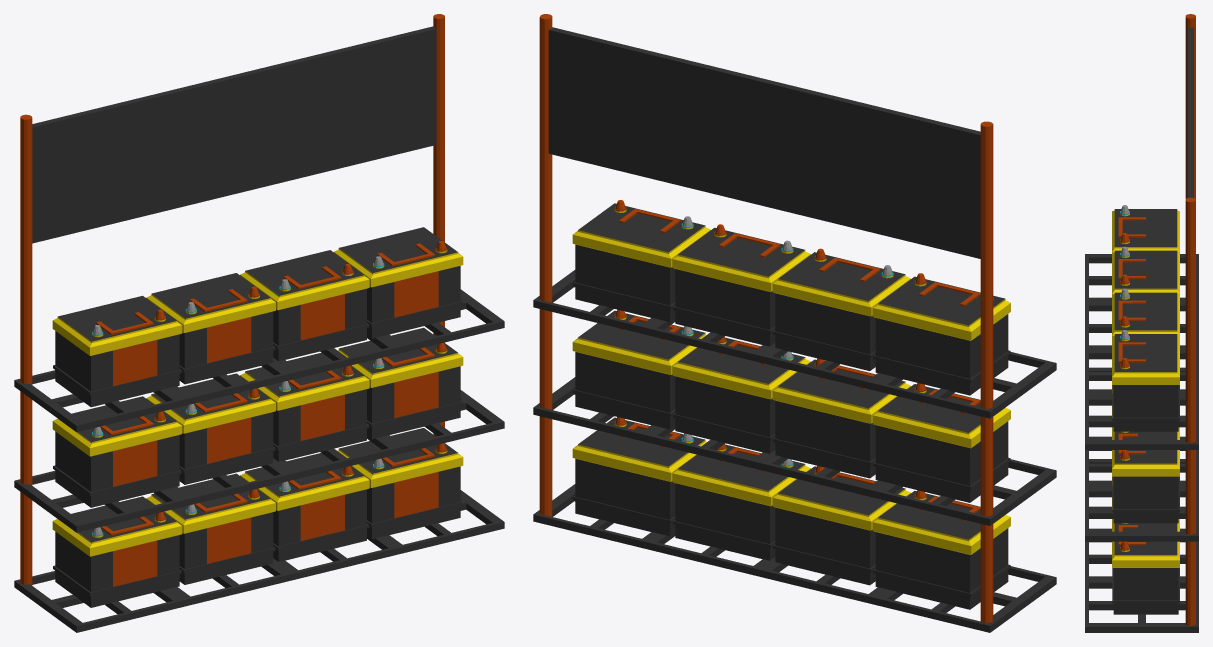
File: BatteryShelf.fbx
The picture shows the model from 3 angles, left to right: view 1: azimuth 30°, elevation 25°; view 2: azimuth 150°, elevation 25°; view 3: azimuth 270°, elevation 25°; orthographic projection. The views are drawn at different scales.
Visible parts, largest first — view 1: pCube18; view 2: pCube18; view 3: pCube18.
Part boxes in pixels (bbox=[...]): pCube18: bbox=[14, 14, 504, 632]; pCube18: bbox=[533, 14, 1056, 632]; pCube18: bbox=[1085, 14, 1198, 632].
Bounding box in the file's own units: 26.17 × 27.55 × 6.62.
